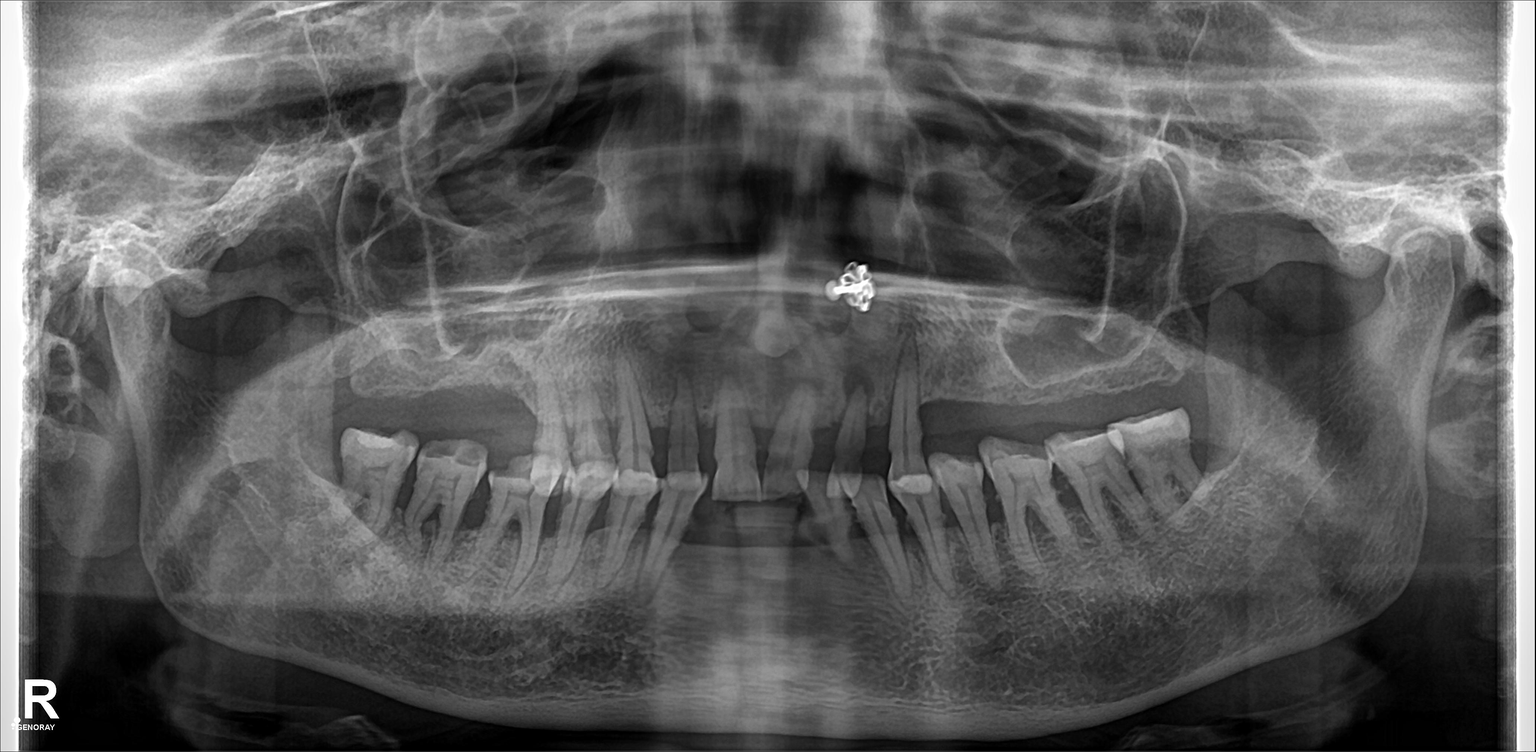Missing Tooth: (961, 359, 1016, 454), (1119, 344, 1175, 426), (410, 359, 456, 431), (371, 352, 407, 435), (1019, 367, 1058, 441), (462, 350, 495, 434), (507, 346, 535, 441), (1073, 359, 1108, 435), (708, 499, 736, 593), (922, 376, 956, 444), (345, 352, 369, 419)
